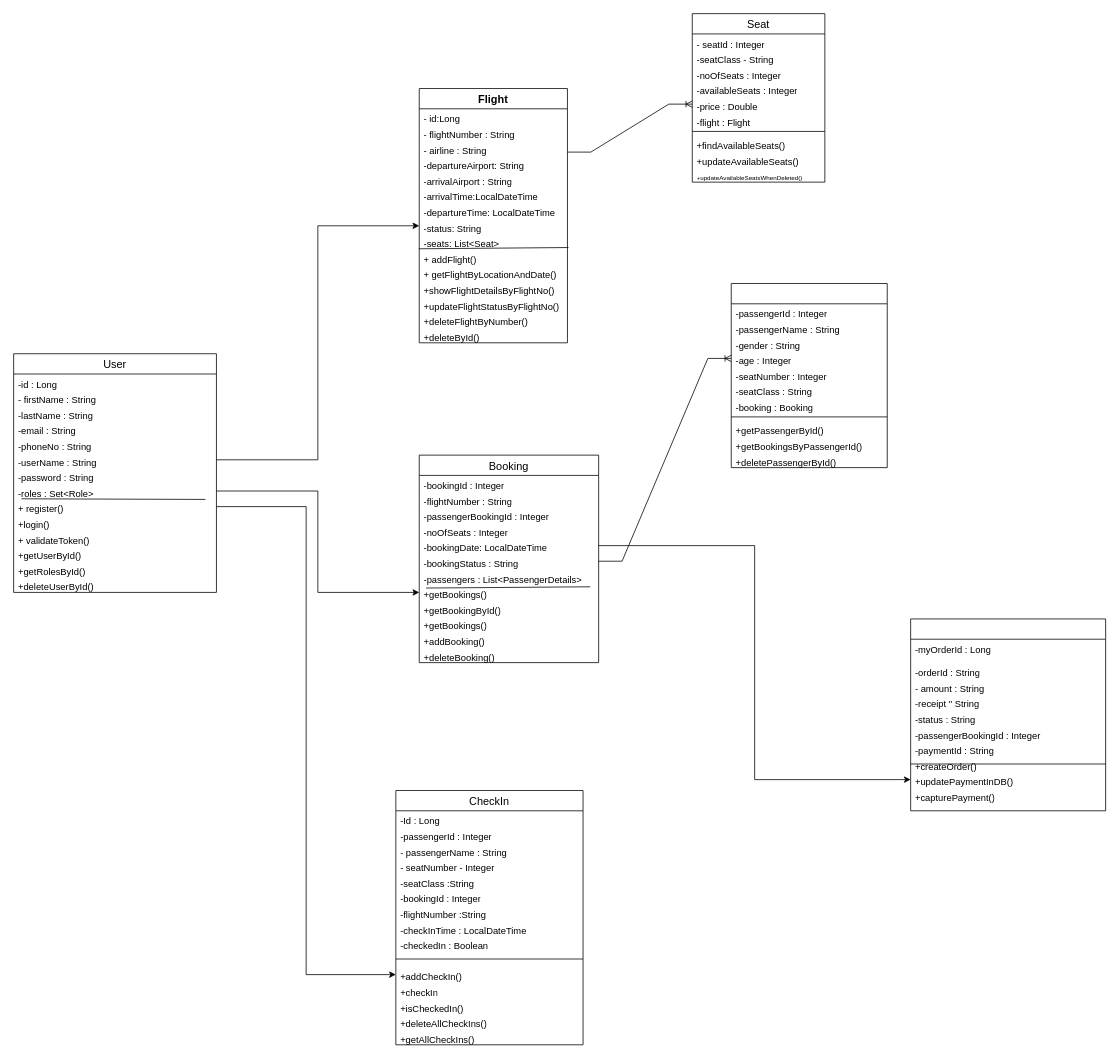
Some shapes in this 1120 by 1061 pixel diagram are drawn without their labels. The box of each missing label's shape, as (x1, y1, x2, y2) in pixels:
PassengerDetails: (730, 283, 887, 468)
Payment(RazorPay): (910, 618, 1106, 811)
